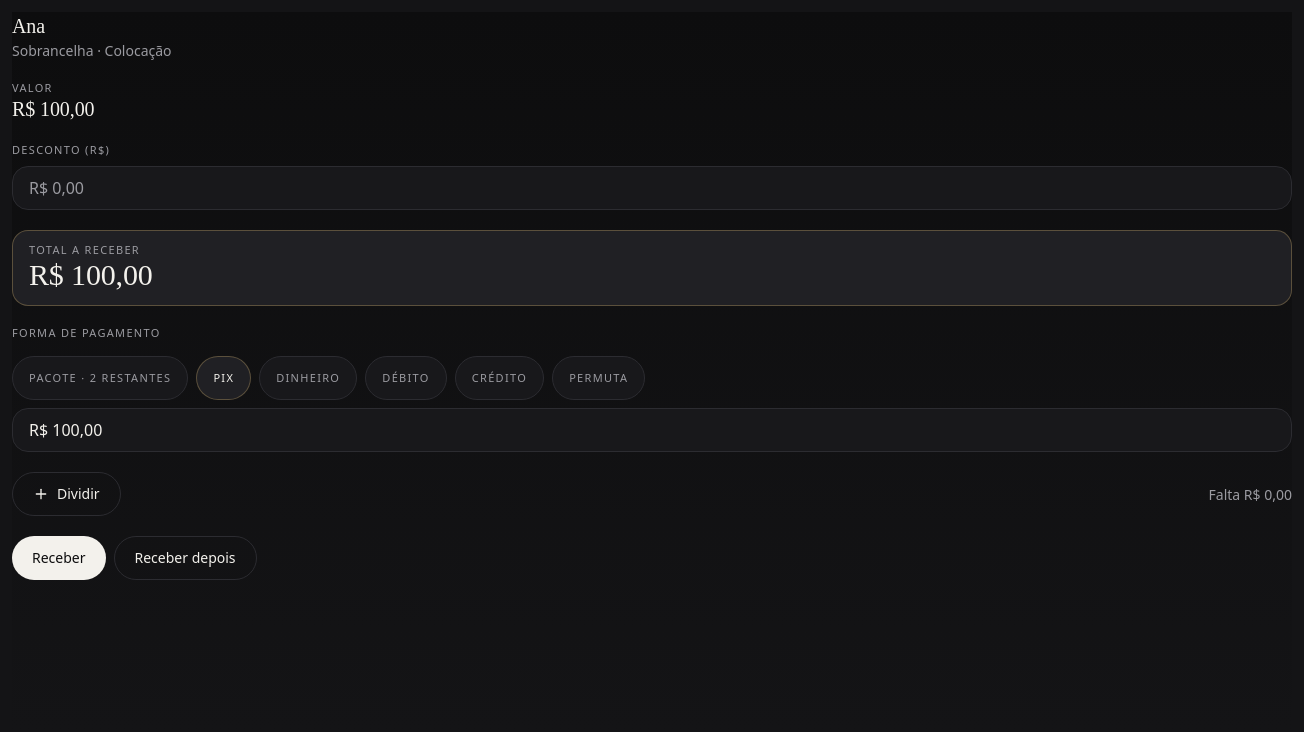
Test: Payment sheet, package mode › HAS_PAYMENTS shows its message plus the hint to reverse the payment in the Extrato
Click the button "PACOTE · 2 restantes": (100, 378) [12,356,188,400]
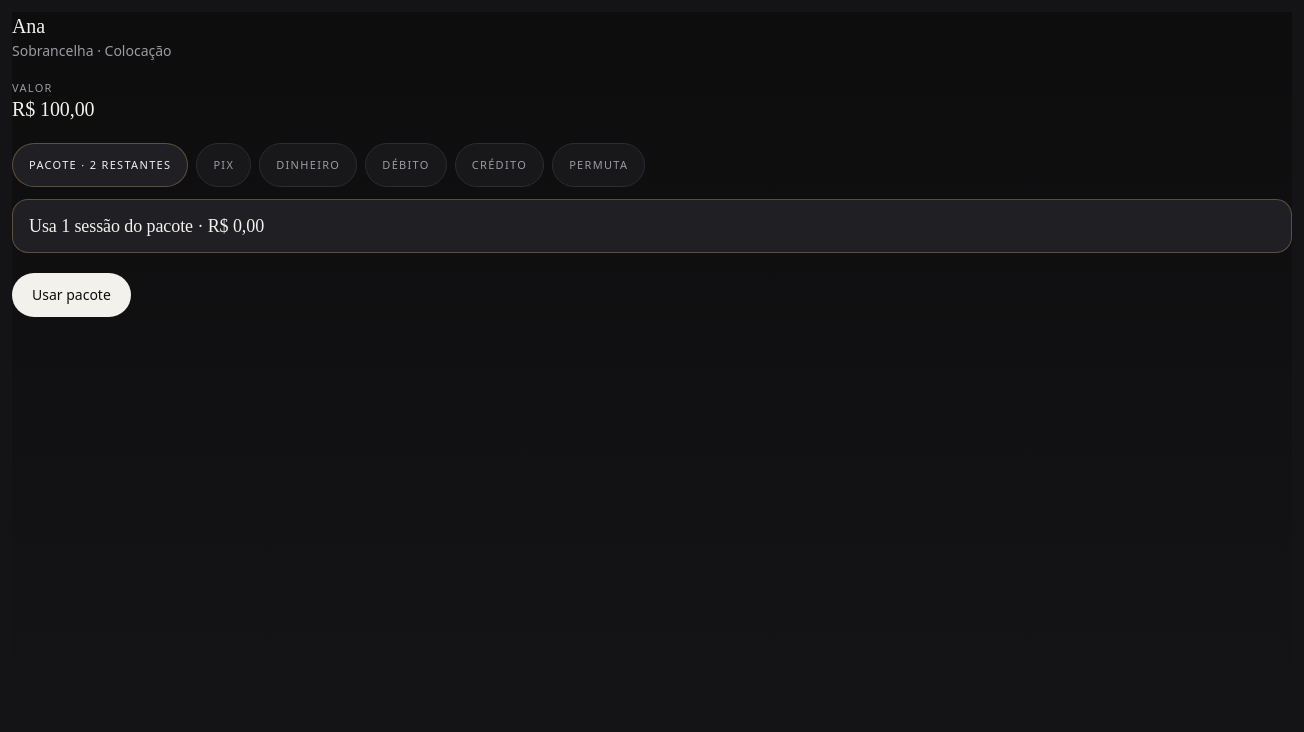
Click the button "Usar pacote": (71, 295) [12,273,131,317]
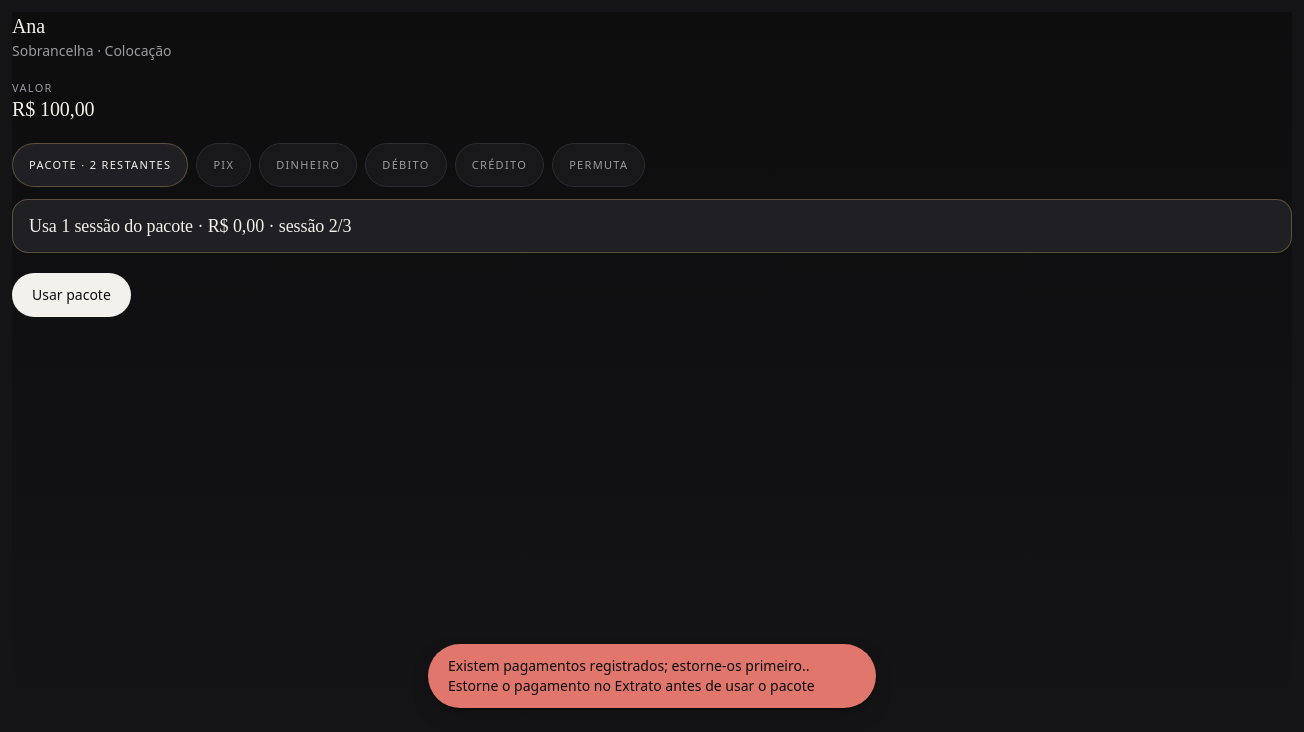
Result: the text "Estorne o pagamento no Extrato antes de usar o pacote" is shown at [448,656,815,695]
